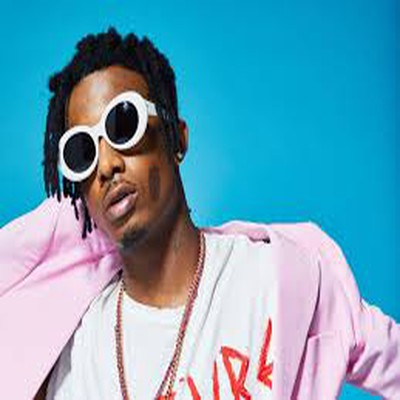eywear: (44, 104, 180, 179)
